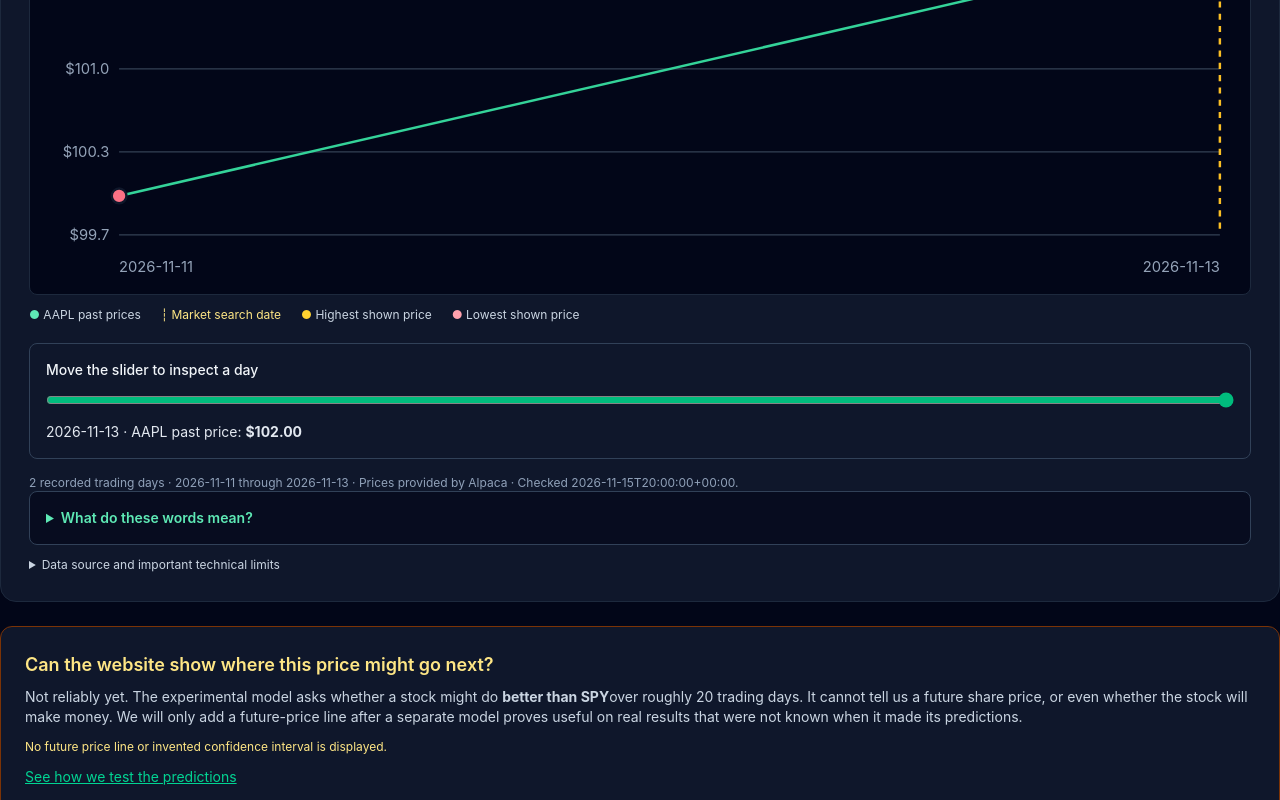
Test: Stock History page › provides a keyboard-operable session inspector
The image size is (1280, 800).
(page scrolled)
Set the slider named "Inspect historical session" to "0" at x=54, y=400, box [46,392,1234,408]
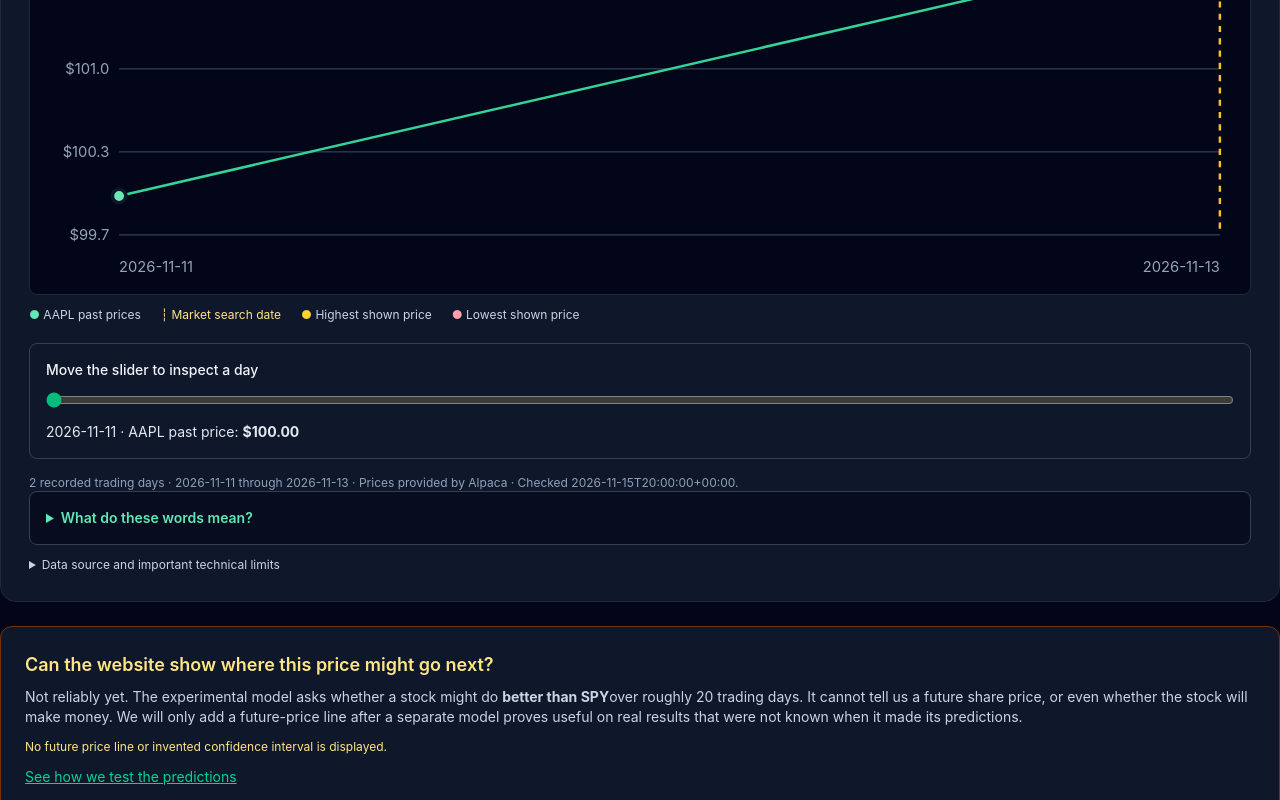
Result: the text "2026-11-11 · AAPL past price: $100.00" is shown at [46,423,299,440]
